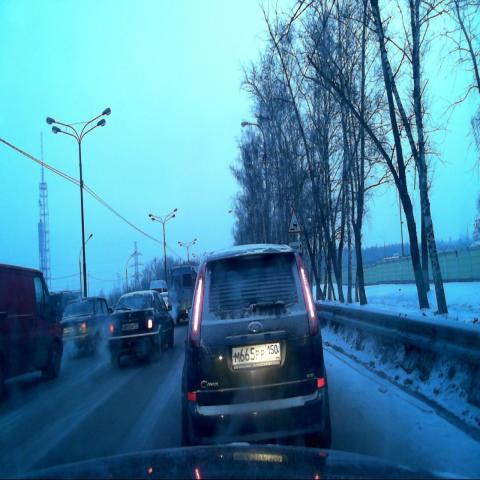1_19: (286, 211, 302, 235)
